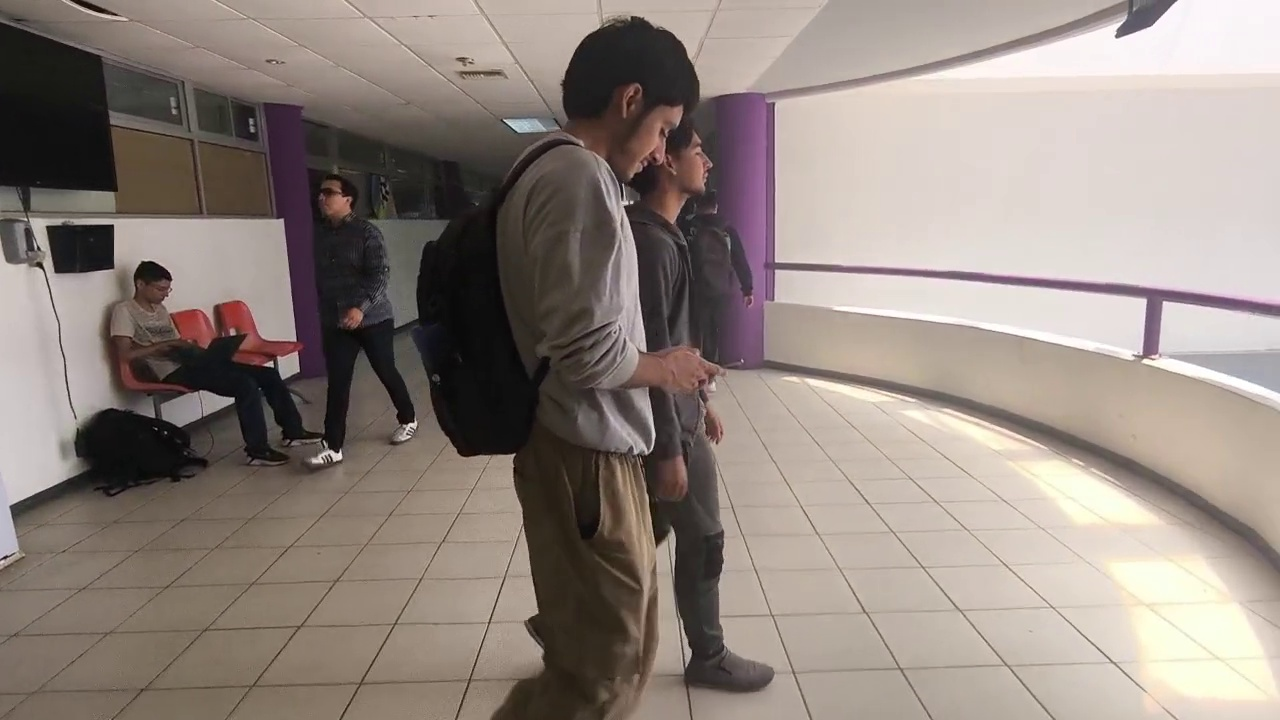mixto2: (704, 345, 749, 371)
